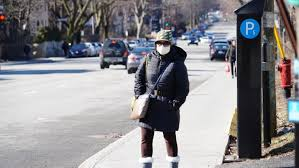masked: (155, 28, 173, 56)
